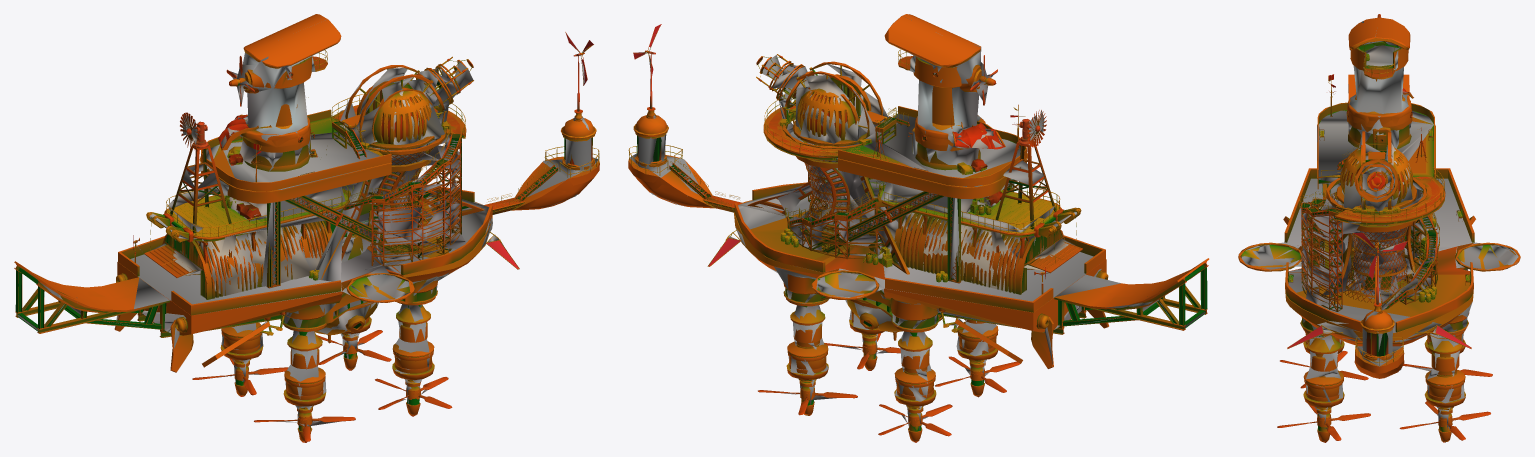
The model's file is KB3D_CSK_BldgMdObservatory_A.glb.
The picture shows the model from 3 angles, left to right: view 1: azimuth 30°, elevation 25°; view 2: azimuth 150°, elevation 25°; view 3: azimuth 270°, elevation 25°; orthographic projection. The views are drawn at different scales.
Visible parts, largest first — view 1: L0, L2, L1; view 2: L0, L2, L1; view 3: L0, L2, L1.
Part boxes in pixels (bbox=[...]): L0: bbox=[14, 14, 599, 442]; L2: bbox=[18, 20, 598, 429]; L1: bbox=[17, 34, 599, 441]; L0: bbox=[628, 14, 1209, 442]; L2: bbox=[629, 16, 1205, 430]; L1: bbox=[628, 30, 1202, 441]; L0: bbox=[1238, 14, 1520, 442]; L2: bbox=[1241, 21, 1518, 442]; L1: bbox=[1238, 15, 1518, 442].
Size of the model in its own units: 66.63 by 43.59 by 29.53.
